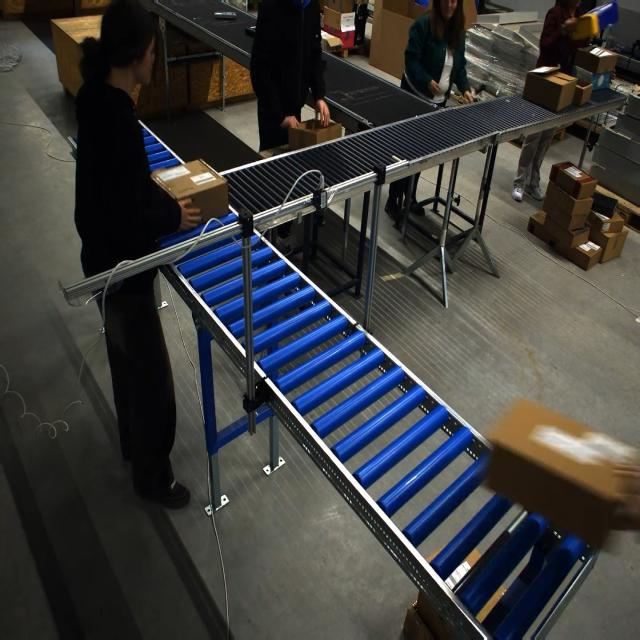box: (481, 403, 634, 545), (150, 158, 228, 224), (289, 117, 335, 150)
product: (213, 11, 237, 19), (245, 25, 256, 36)
